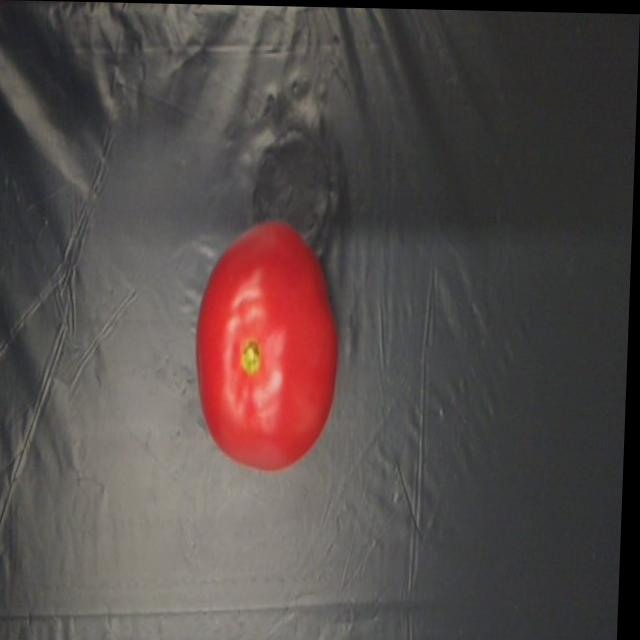kirmizi: (177, 205, 364, 467)
